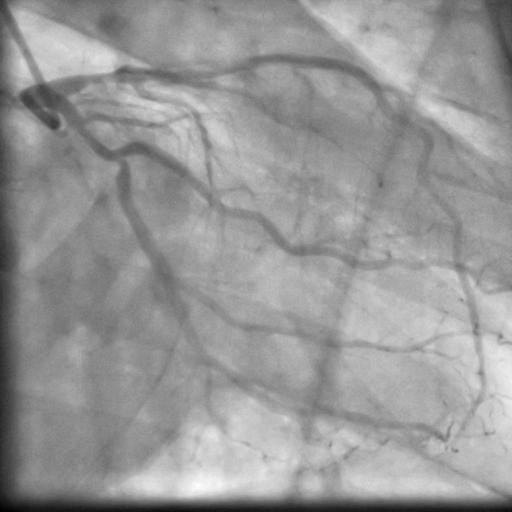Stenosis: (189, 61, 255, 80)
